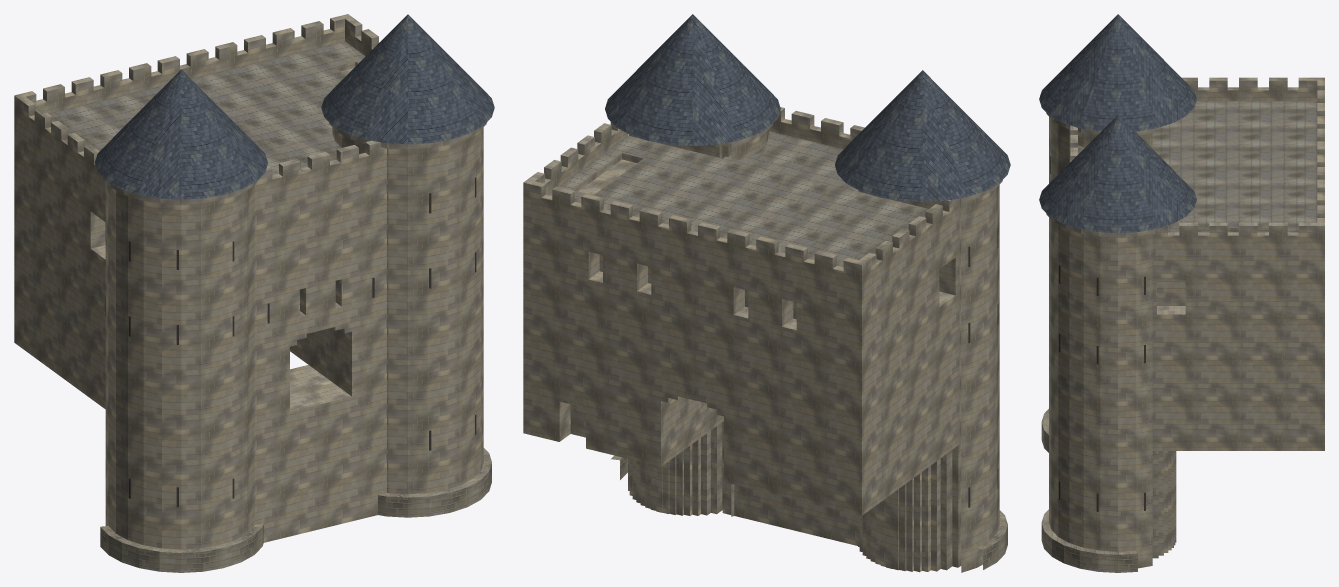
Rendered from fort-gatehouse.fort-v1.lod1.glb.
3 views of the same model, side by side, from view 1: azimuth 30°, elevation 25°; view 2: azimuth 150°, elevation 25°; view 3: azimuth 270°, elevation 25° (orthographic). The views are drawn at different scales.
Visible parts, largest first — view 1: fort-gatehouse; view 2: fort-gatehouse; view 3: fort-gatehouse.
Part boxes in pixels (left/top/right/bottom): fort-gatehouse: left=14, top=14, right=494, bottom=572; fort-gatehouse: left=523, top=14, right=1010, bottom=572; fort-gatehouse: left=1039, top=14, right=1324, bottom=572.
Bounding box in the file's own units: 31.6 × 37.5 × 22.8.
5 materials, 4 textured.
